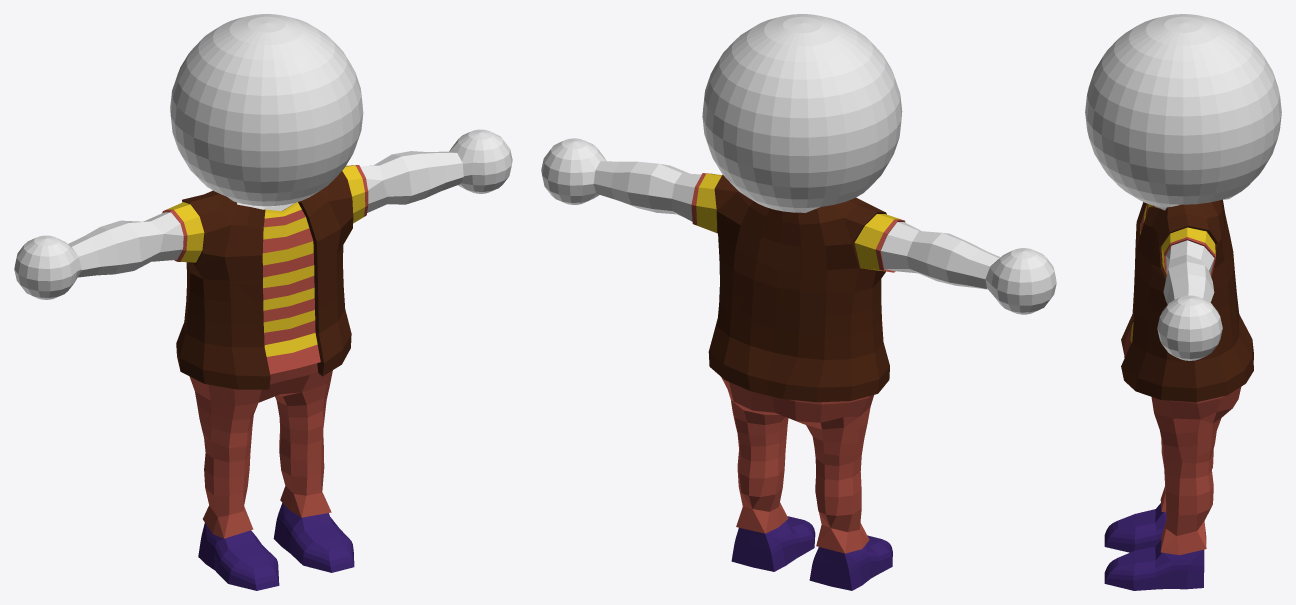
The model's file is chibi.vest.fbx.
3 views of the same model, side by side, from view 1: azimuth 30°, elevation 25°; view 2: azimuth 150°, elevation 25°; view 3: azimuth 270°, elevation 25° (orthographic). The views are drawn at different scales.
Visible parts, largest first — view 1: vest; view 2: vest; view 3: vest.
Part boxes in pixels (box(x1,y1,x2,y2)): vest: box(14, 14, 512, 590); vest: box(541, 14, 1056, 590); vest: box(1085, 14, 1281, 590).
Bounding box in the file's own units: 105 × 108 × 36.
